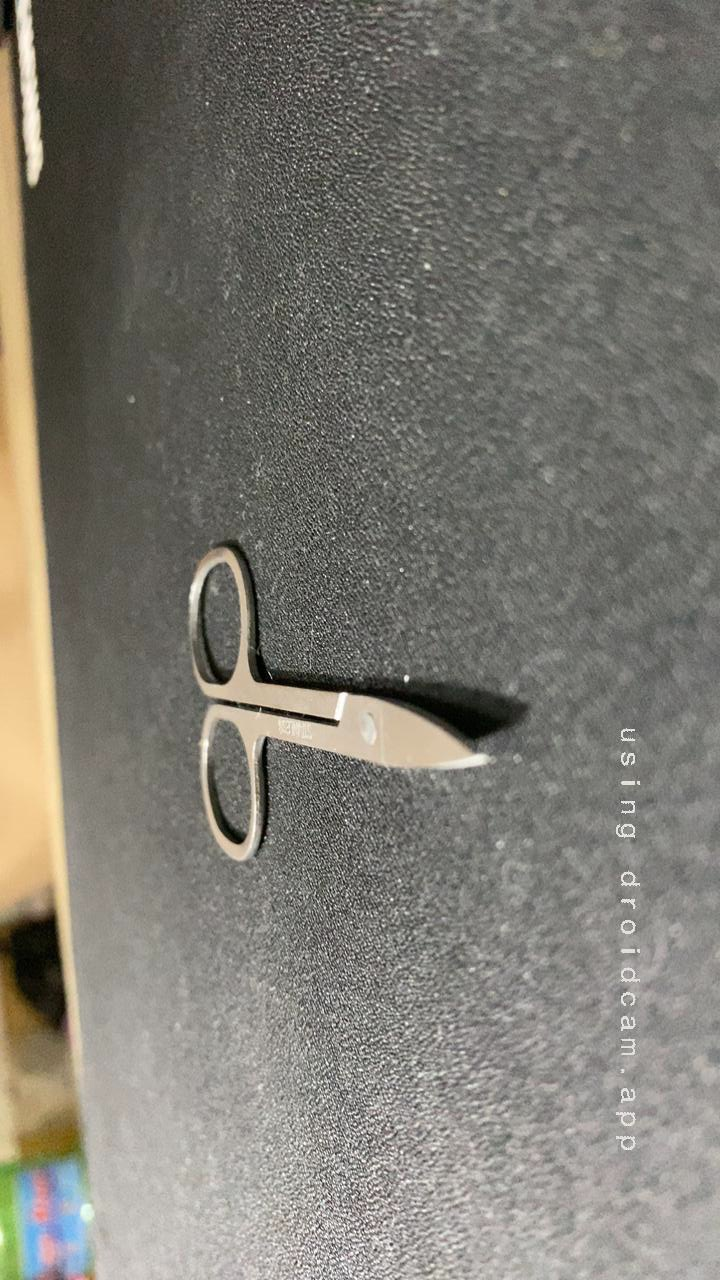scissor: (48, 513, 378, 889)
